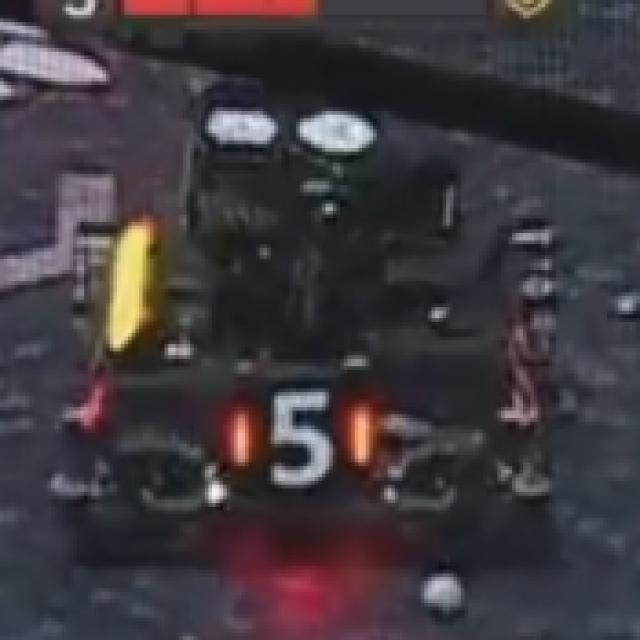R5: (238, 388, 362, 484)
